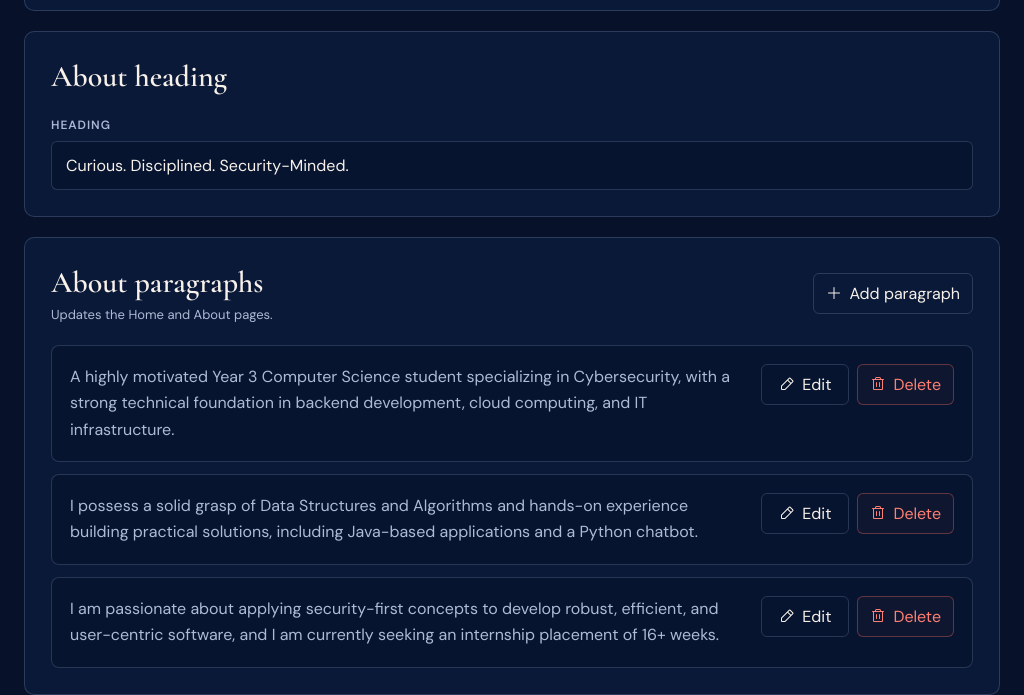
Scenario: Admin authentication and editing › confirms deletion, shows unsaved state, and publishes only after Save changes
(page scrolled)
Click the 1st button "Delete" at x=906, y=384, box x1=857 y1=364 x2=954 y2=405
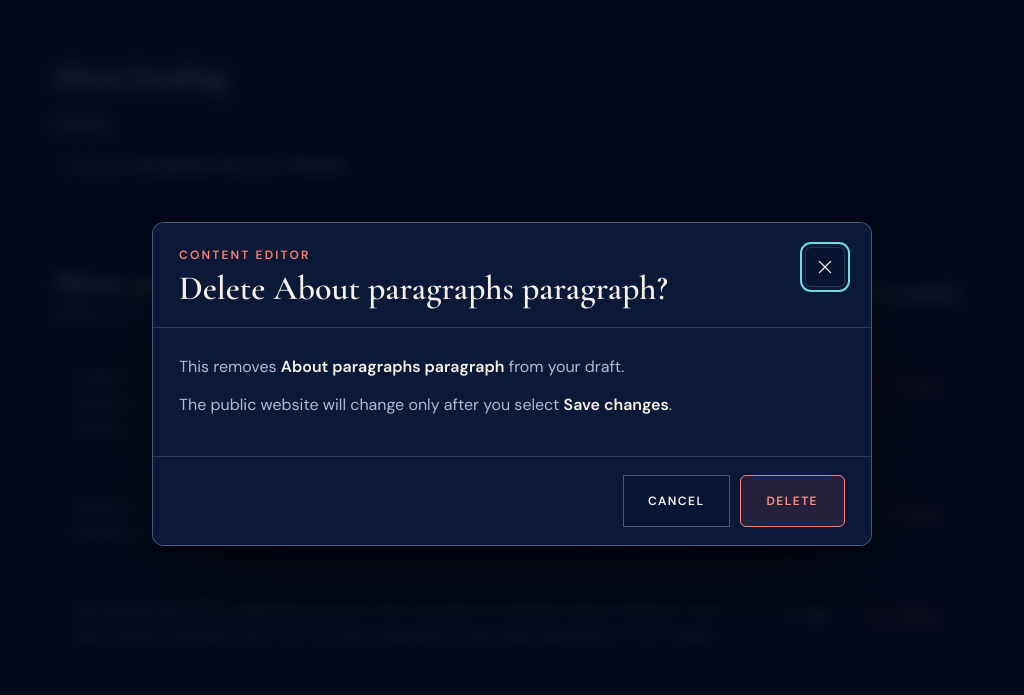
Check: the dialog "Delete About paragraphs paragraph" is shown, box x1=152 y1=222 x2=872 y2=546
Click the button "Delete" at x=792, y=501, box x1=740 y1=475 x2=845 y2=527
(page scrolled)
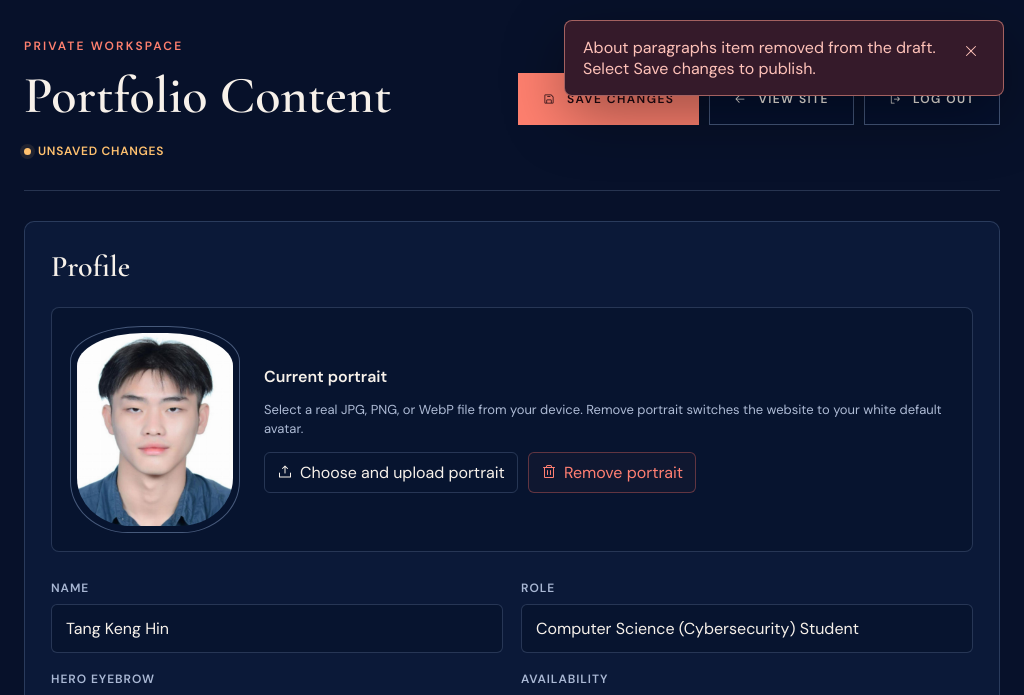
Check: the text "Unsaved changes" is shown, box x1=24 y1=143 x2=164 y2=159
Click the button "Save changes" at x=609, y=99, box x1=518 y1=73 x2=699 y2=125
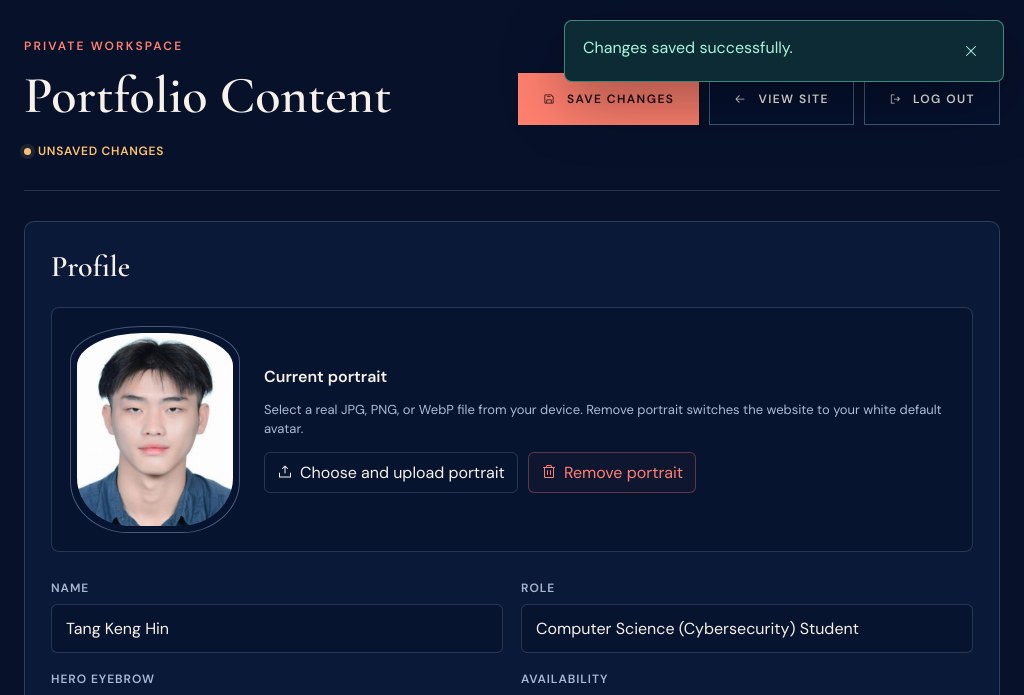
Check: the text "Changes saved successfully." is shown, box x1=583 y1=37 x2=793 y2=58
